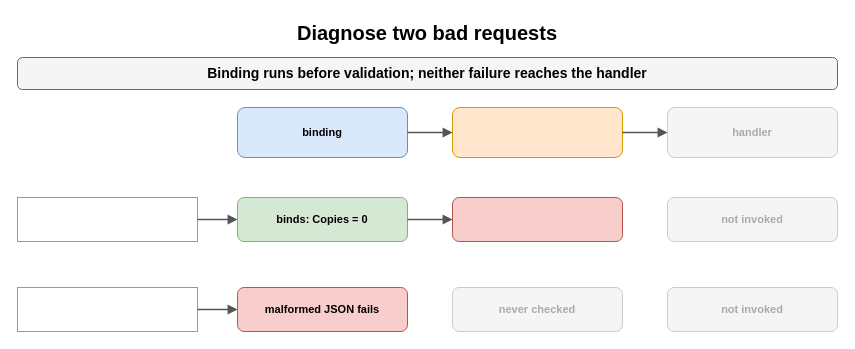
The diagram is 855 pixels wide and 349 high, and some of its shapes have lost their labels. Each missing label, with the centre of its shape:
fails the range rule: (537,219)
validation [Range(1, 50)]: (537,132)
{"copies":: (107,309)
{"copies":0}: (107,219)
